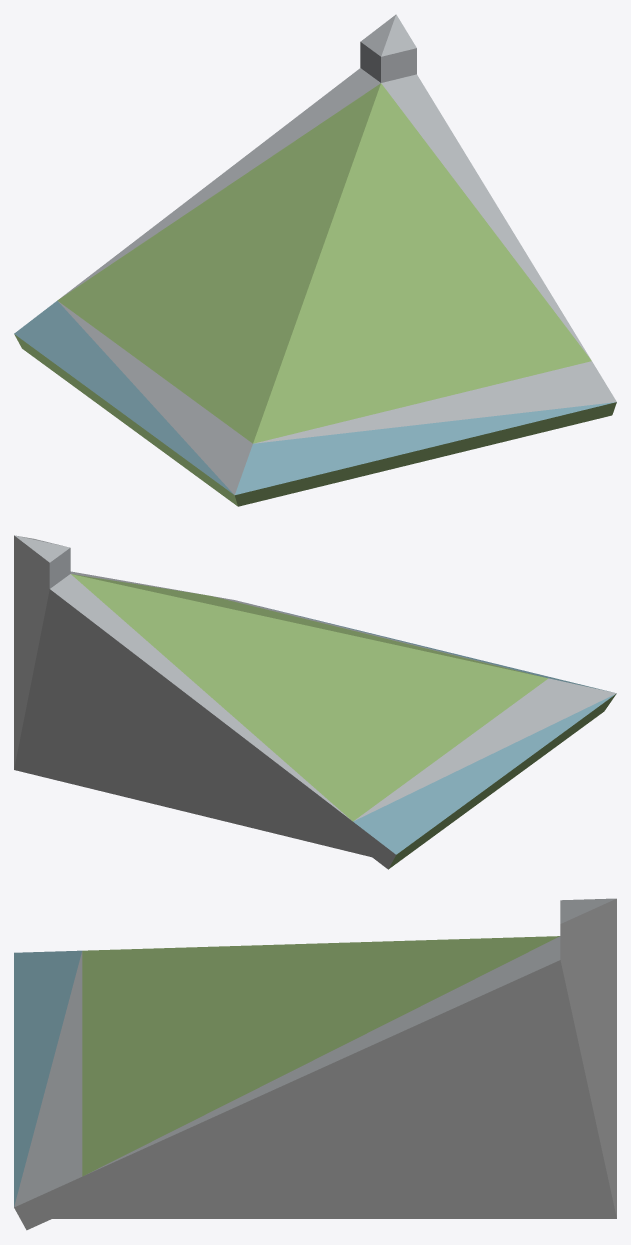
3 renders of one model, top to bottom at view 1: azimuth 30°, elevation 25°; view 2: azimuth 150°, elevation 25°; view 3: azimuth 270°, elevation 25°, orthographic. The views are drawn at different scales.
Visible parts, largest first — view 1: model; view 2: model; view 3: model.
Part boxes in pixels (box(x1,y1,x2,y2)): model: box(14, 14, 616, 506); model: box(14, 535, 616, 869); model: box(14, 898, 616, 1230).
Size of the model in its own units: 2.13 by 1.3 by 2.13.
